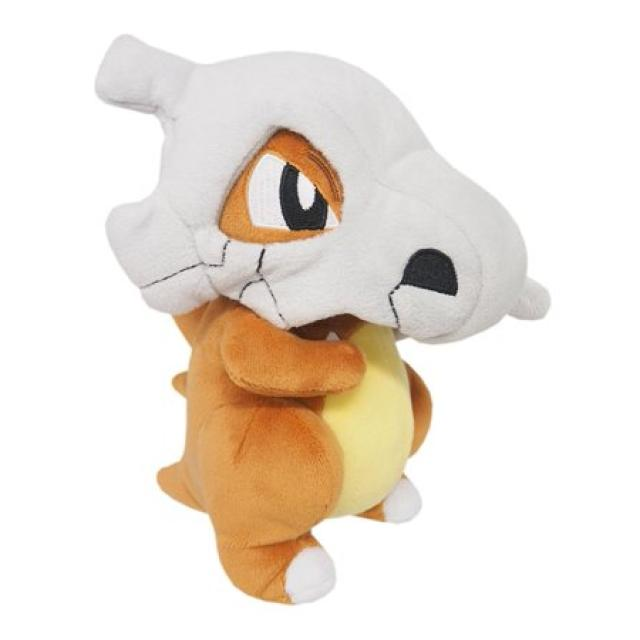Cubone: (92, 34, 556, 606)
